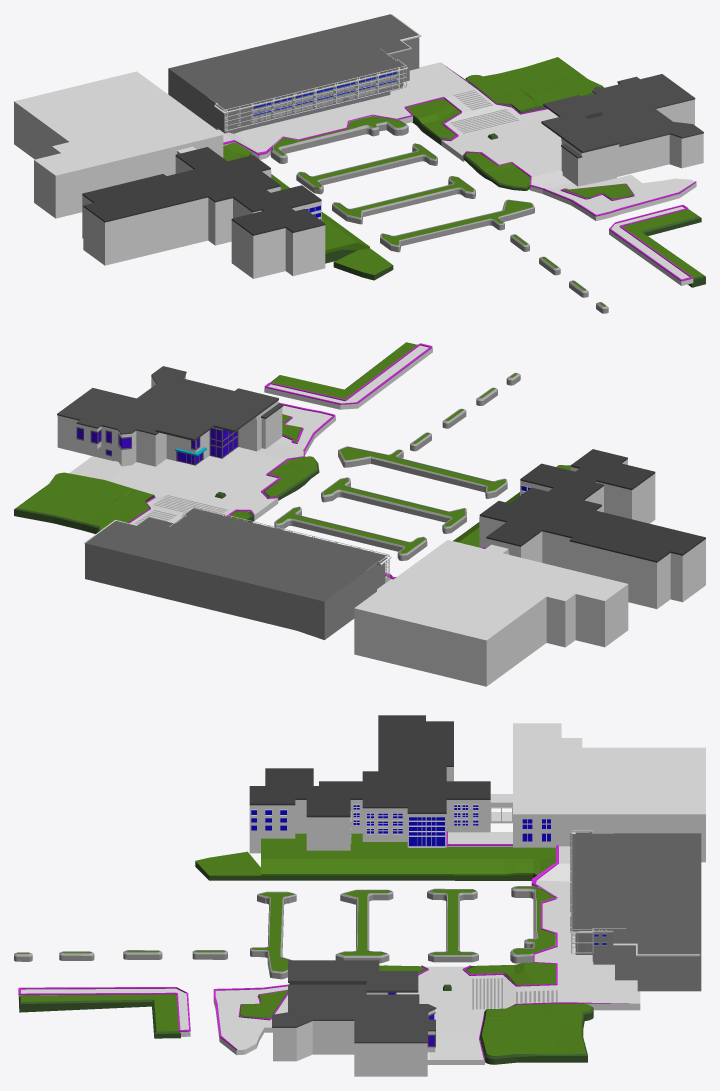
File: OUTSIdESIMP1.fbx
3 views of the same model, one above another, from view 1: azimuth 30°, elevation 25°; view 2: azimuth 150°, elevation 25°; view 3: azimuth 270°, elevation 25° (orthographic). The views are drawn at different scales.
Visible parts, largest first — view 1: Cube; view 2: Cube; view 3: Cube.
Part boxes in pixels (<box>): Cube: <box>14,14,705,313</box>; Cube: <box>14,342,705,686</box>; Cube: <box>14,715,705,1076</box>.
Bounding box in the file's own units: 4488 × 406 × 4168.
